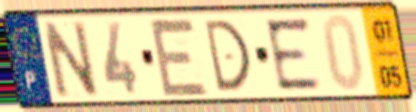0: (320, 12, 367, 94)
4: (102, 19, 142, 98)
D: (201, 16, 254, 95)
E: (145, 16, 212, 99), (261, 15, 324, 94)
N: (39, 18, 102, 101)
